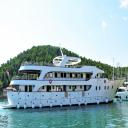cruises: (7, 49, 127, 111)
